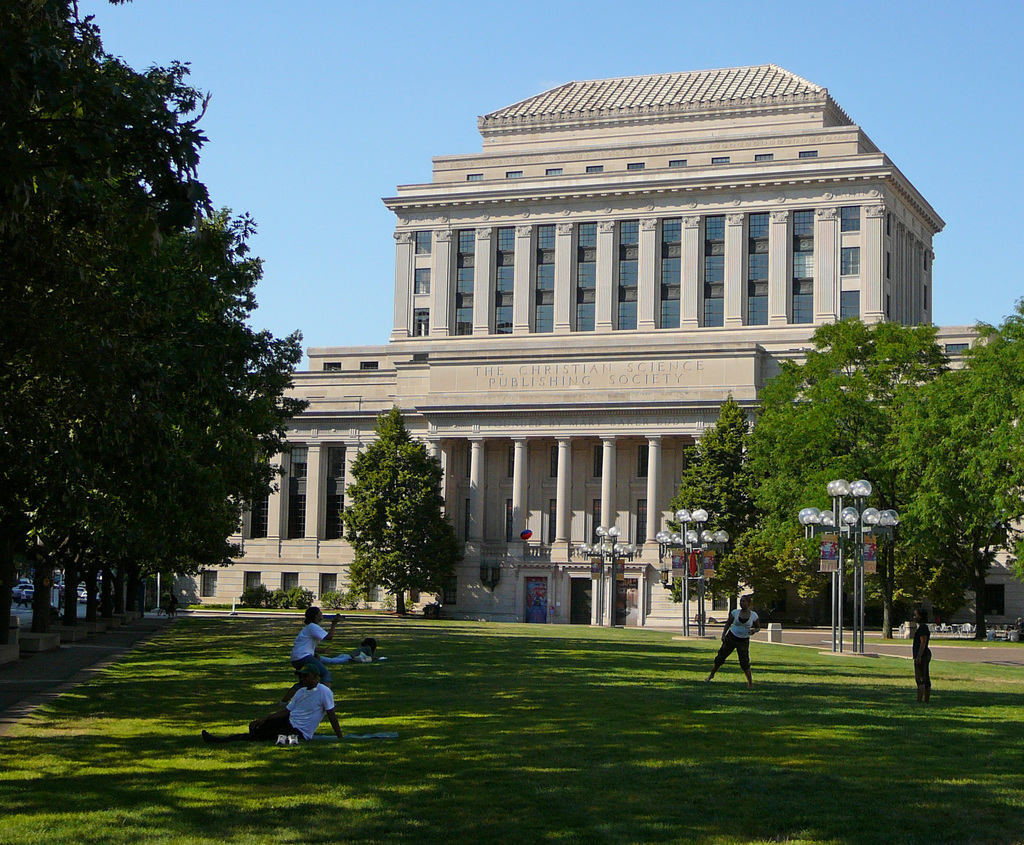Tree: (0, 0, 1023, 641)
